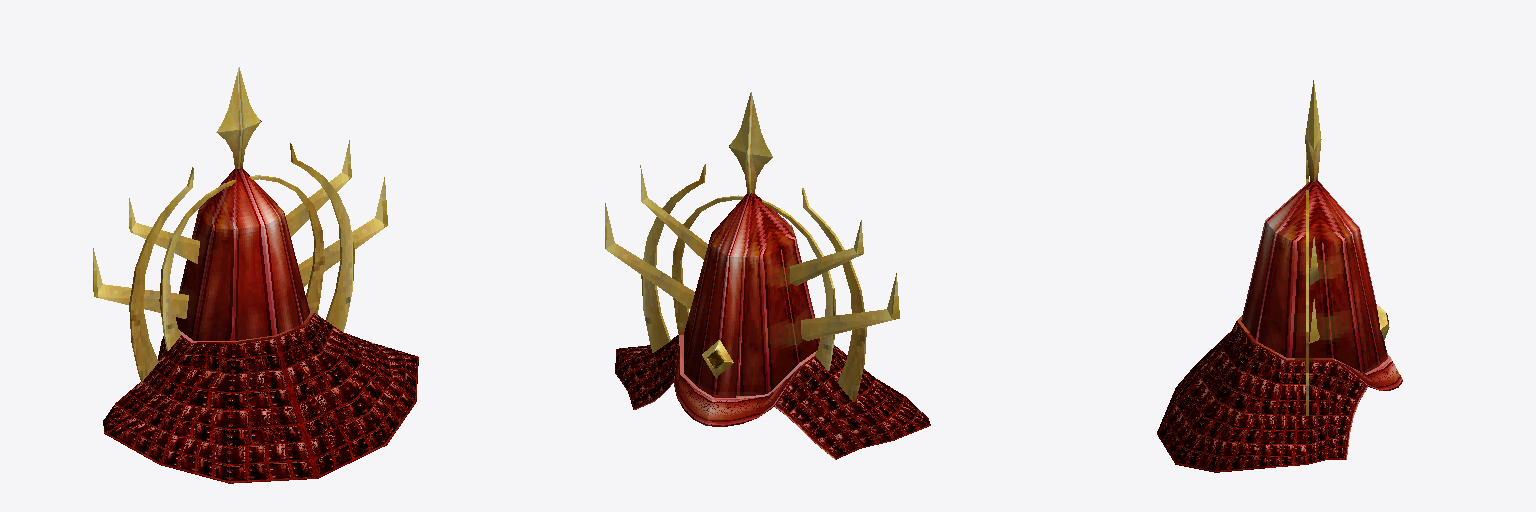
3 renders of one model, left to right at view 1: azimuth 30°, elevation 25°; view 2: azimuth 150°, elevation 25°; view 3: azimuth 270°, elevation 25°, orthographic.
Size of the model in its own units: 4.52 by 4.87 by 3.07.
Materials: 1 (1 with a texture image).